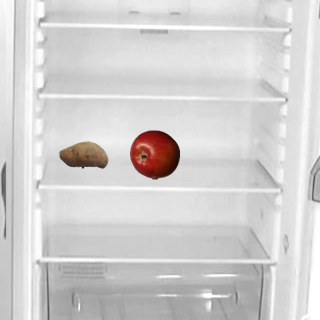Apple Braeburn: (129, 129, 179, 179)
Potato Sweet: (58, 129, 108, 179)
